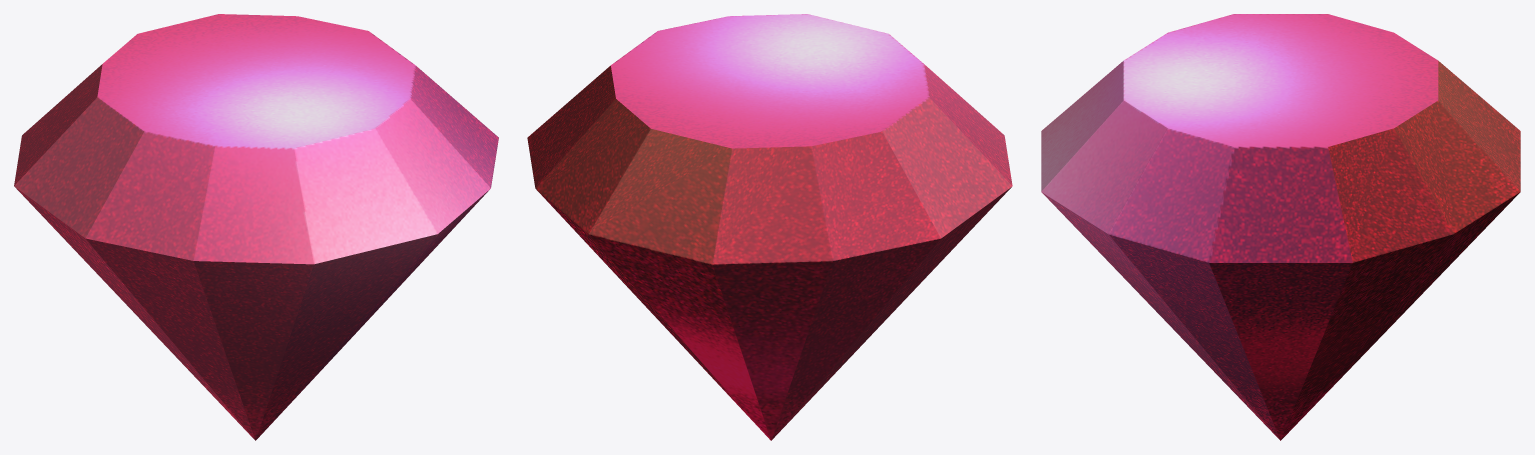
The model's file is IconDiamond.fbx.
3 views of the same model, side by side, from view 1: azimuth 30°, elevation 25°; view 2: azimuth 150°, elevation 25°; view 3: azimuth 270°, elevation 25° (orthographic).
Visible parts, largest first — view 1: 钻石; view 2: 钻石; view 3: 钻石.
Boxes of the visible parts, bbox=[...] form: 钻石: bbox=[14, 14, 498, 440]; 钻石: bbox=[527, 14, 1012, 440]; 钻石: bbox=[1041, 14, 1520, 440].
Bounding box in the file's own units: 1.61 × 1.34 × 1.61.
1 material, 1 textured.
